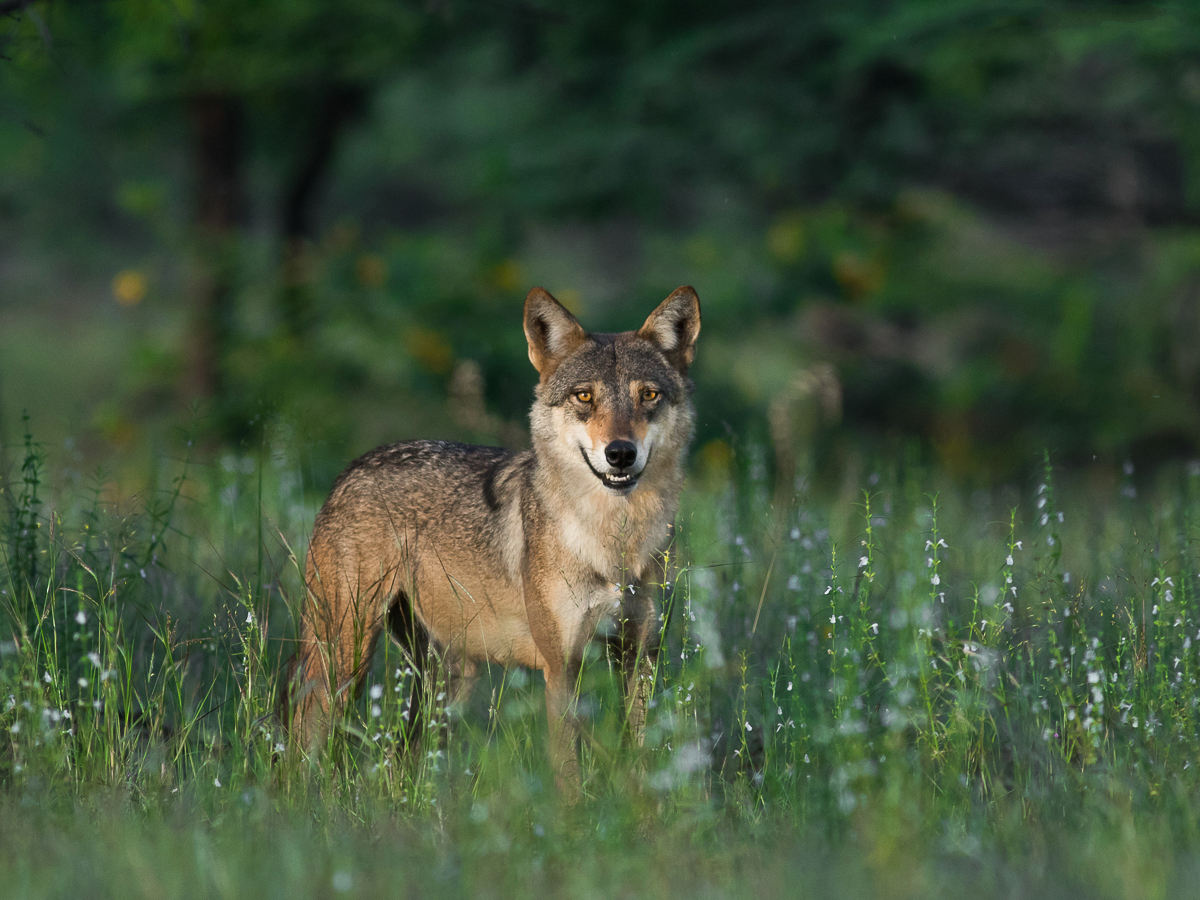wolf: (277, 276, 711, 776)
